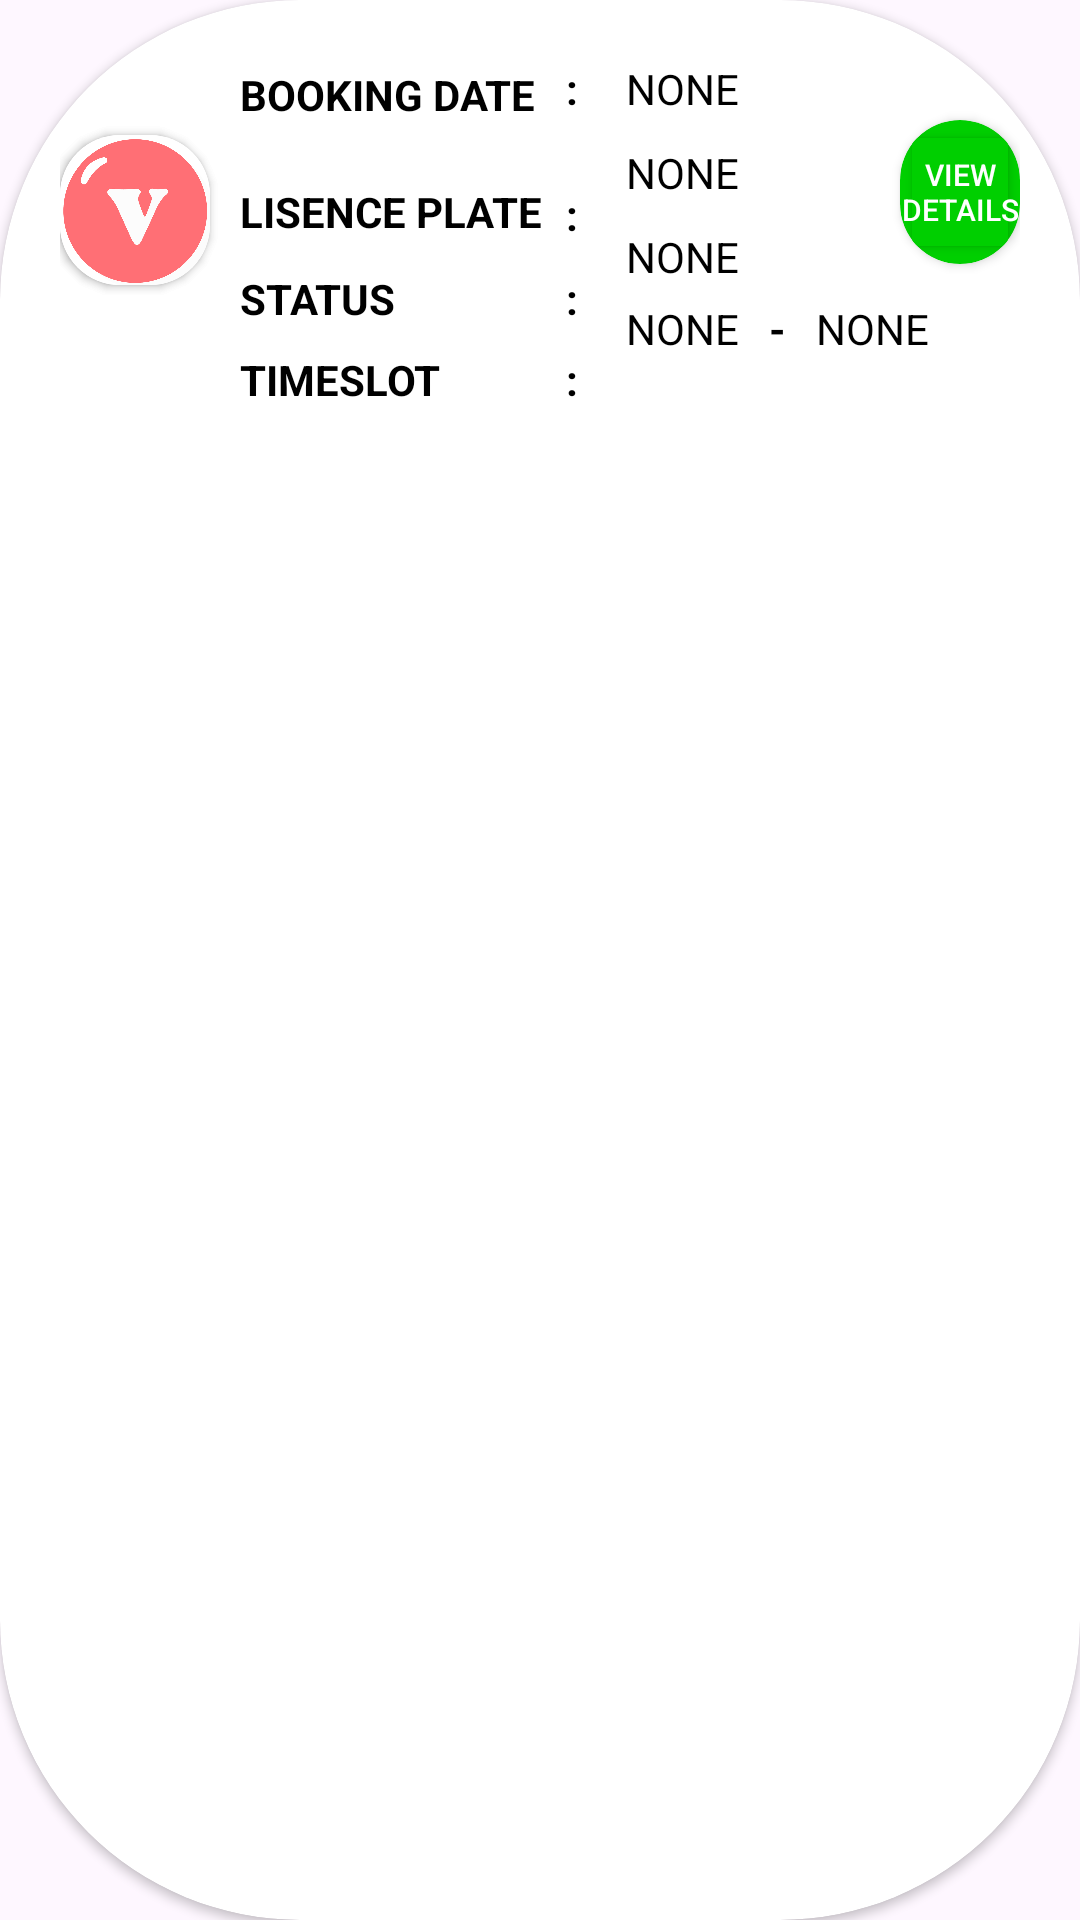

Point at icon controls on the screen. Image size 1080w x 1920h, points as [x,y].
valet: [135,210]
